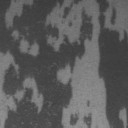red iron: (0, 0, 93, 128), (95, 0, 128, 128), (62, 0, 83, 19), (70, 116, 78, 124), (84, 117, 91, 122), (68, 22, 72, 26)
